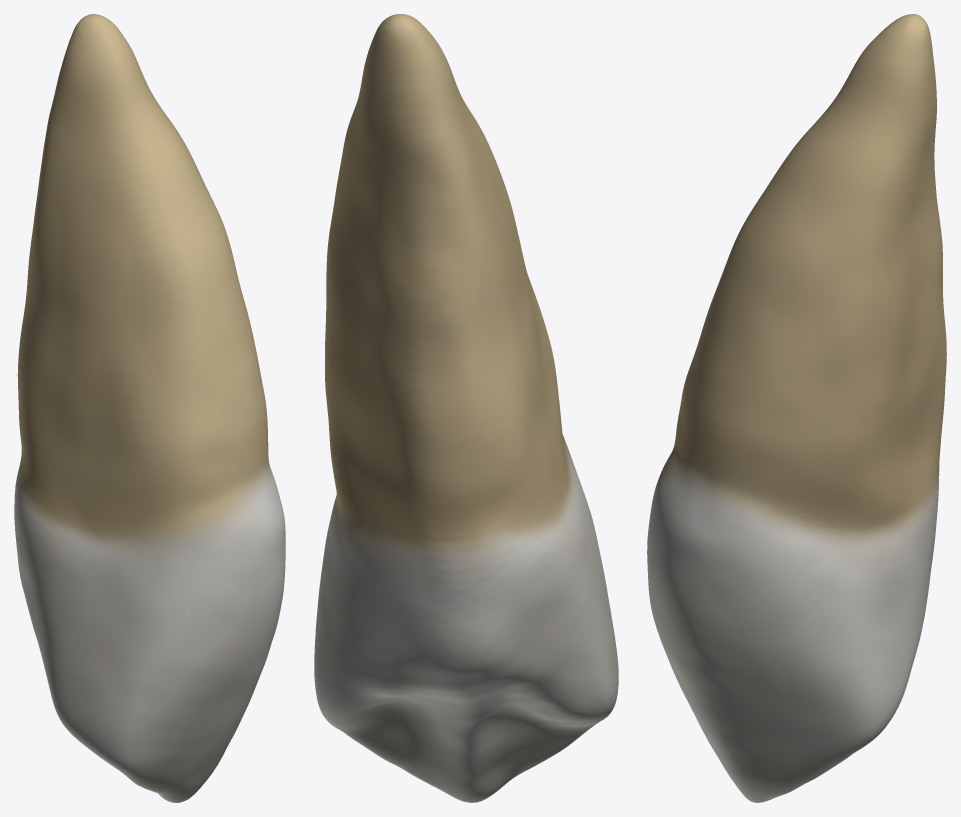
The model's file is maxillary_canine.glb.
3 views of the same model, side by side, from view 1: azimuth 30°, elevation 25°; view 2: azimuth 150°, elevation 25°; view 3: azimuth 270°, elevation 25° (orthographic). The views are drawn at different scales.
Visible parts, largest first — view 1: Object_2; view 2: Object_2; view 3: Object_2.
Part boxes in pixels (box(x1,y1,x2,y2)): Object_2: box(14, 14, 285, 802); Object_2: box(314, 14, 618, 802); Object_2: box(647, 14, 946, 802).
Bounding box in the file's own units: 0.2799 × 0.9093 × 0.317.
1 material, 1 textured.
